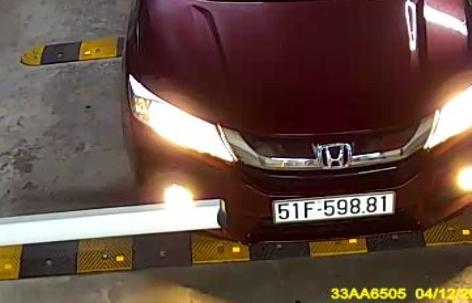plate: (267, 187, 397, 223)
